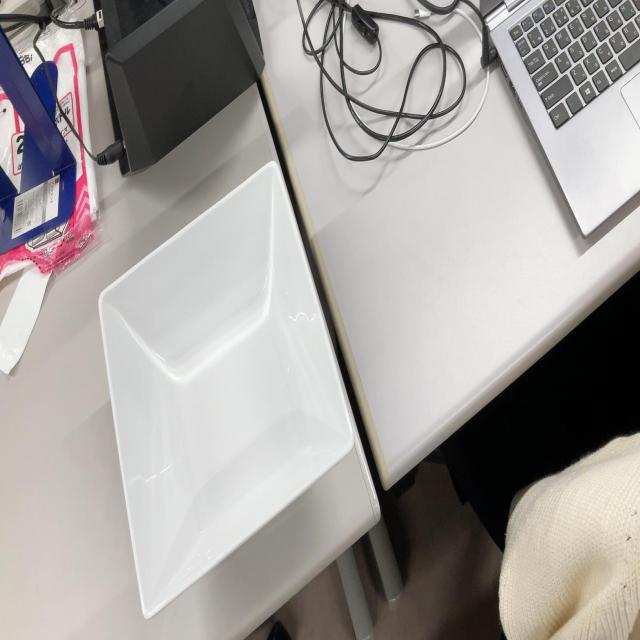plate: (96, 160, 355, 623)
